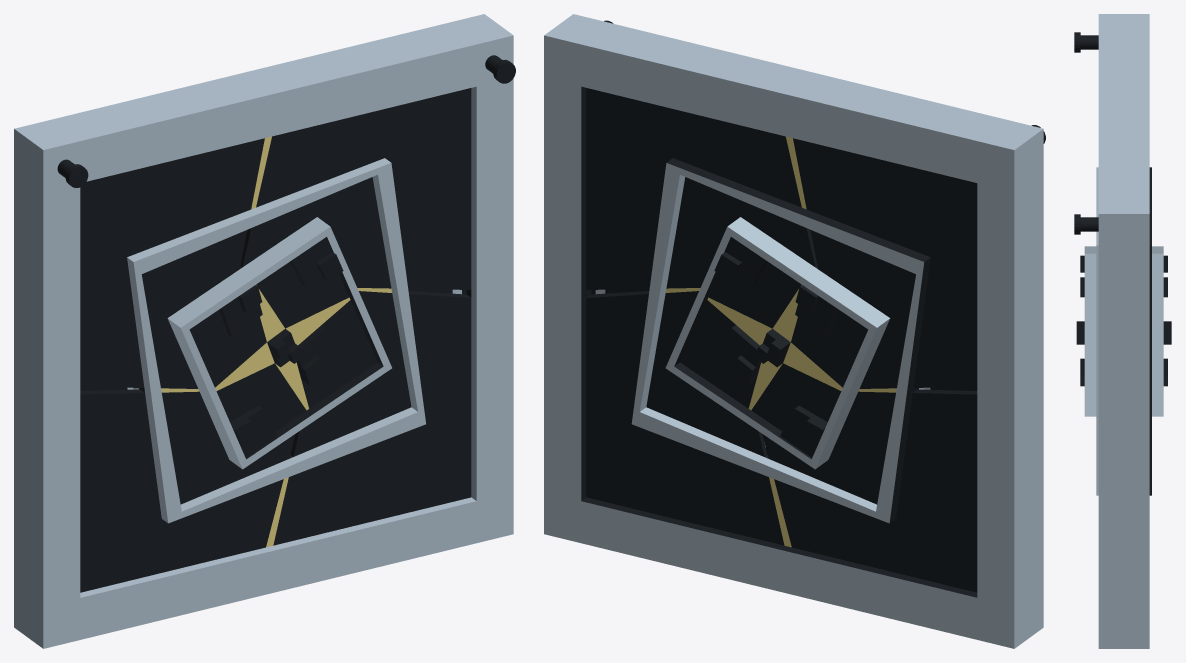
File: Obstacle_Base.fbx
3 views of the same model, side by side, from view 1: azimuth 30°, elevation 25°; view 2: azimuth 150°, elevation 25°; view 3: azimuth 270°, elevation 25° (orthographic). The views are drawn at different scales.
Parts seen in each view (by area): view 1: Obstacle; view 2: Obstacle; view 3: Obstacle.
Part boxes in pixels (x1,y1,x2,y2): Obstacle: (14,14,515,648); Obstacle: (544,14,1045,648); Obstacle: (1074,14,1171,648).
Size of the model in its own units: 2.37 by 2.41 by 0.4881.
